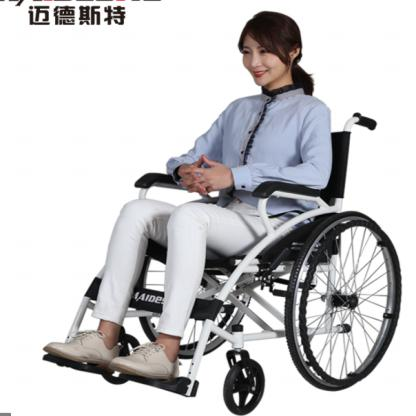wheelchair: (49, 9, 408, 415)
